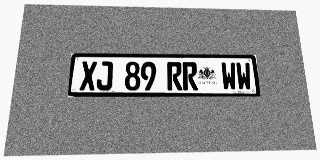8: (124, 61, 140, 90)
9: (141, 62, 156, 90)
J: (96, 61, 113, 90)
R: (182, 62, 198, 90), (167, 62, 182, 90)
W: (235, 62, 252, 90), (221, 62, 237, 90)
X: (79, 61, 97, 90)
